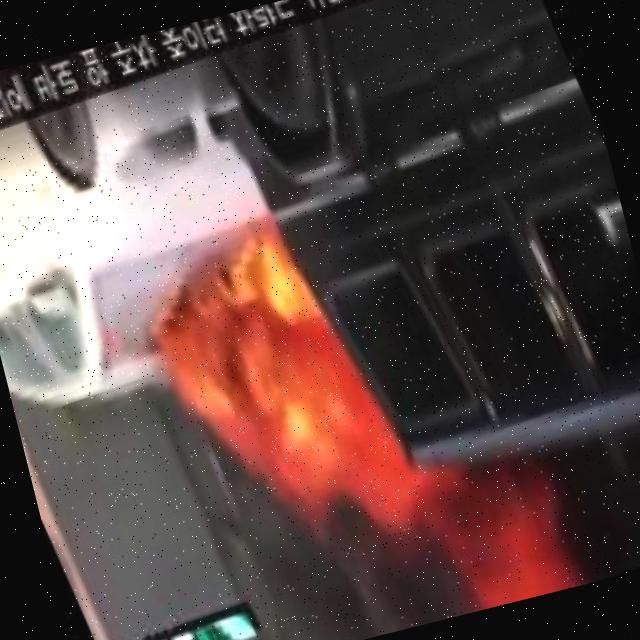fire: (122, 212, 431, 604), (346, 439, 582, 634)
